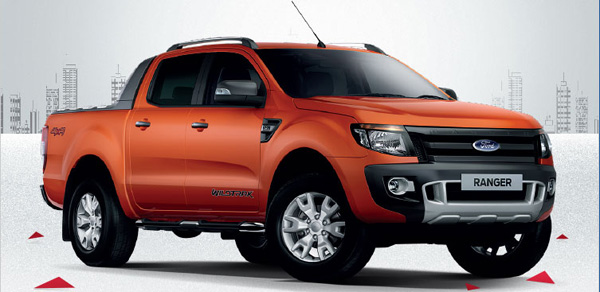pickup: (39, 34, 558, 279)
